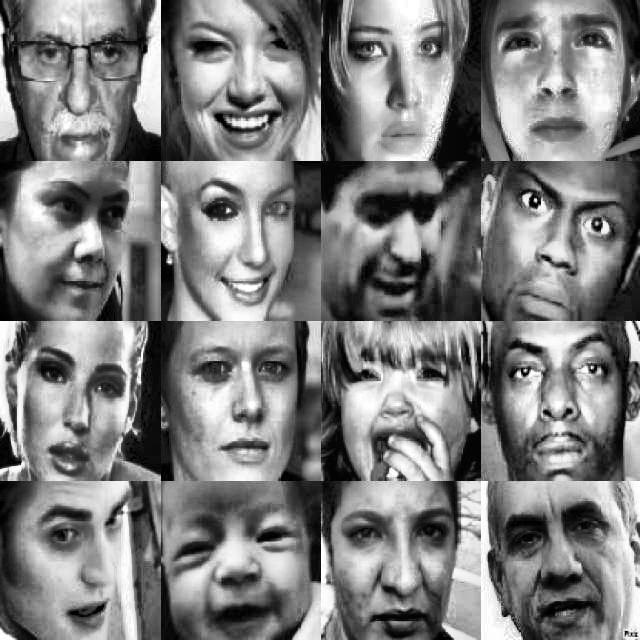angry: (494, 164, 626, 315), (494, 484, 619, 640), (493, 330, 625, 474), (26, 484, 137, 640)
happy: (163, 500, 303, 640), (178, 14, 306, 154), (23, 165, 134, 311), (191, 166, 297, 315)
neutral: (333, 8, 475, 159), (8, 14, 156, 157), (491, 9, 627, 153), (338, 497, 456, 640), (176, 338, 302, 469), (18, 336, 134, 474)
sad: (327, 334, 469, 478), (344, 177, 446, 311)
